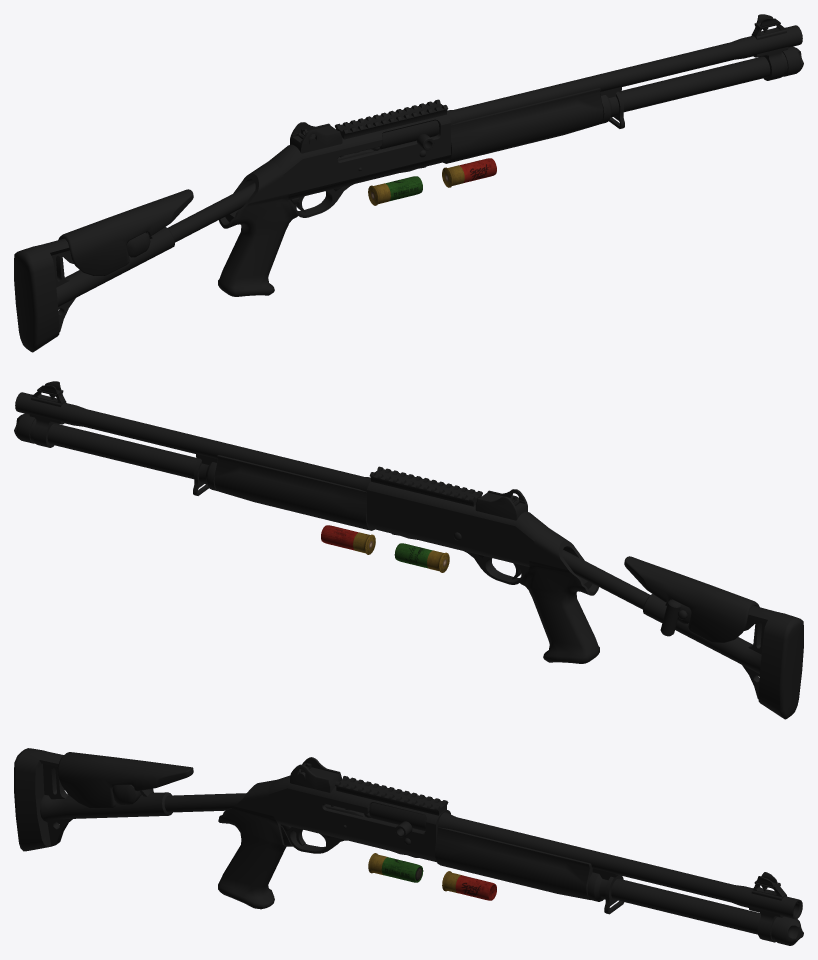
3 views of the same model, one above another, from view 1: azimuth 30°, elevation 25°; view 2: azimuth 150°, elevation 25°; view 3: azimuth 330°, elevation 25° (orthographic).
Visible parts, largest first — view 1: Circle.001, shell_slug, shell; view 2: Circle.001, shell_slug, shell; view 3: Circle.001, shell_slug, shell.
Part boxes in pixels (x1,y1,x2,y2): Circle.001: [14, 14, 803, 352]; shell_slug: [368, 176, 422, 205]; shell: [442, 158, 496, 187]; Circle.001: [14, 381, 803, 719]; shell_slug: [394, 543, 449, 572]; shell: [321, 525, 375, 554]; Circle.001: [14, 748, 803, 945]; shell_slug: [368, 853, 423, 882]; shell: [442, 871, 496, 900].
Size of the model in its own units: 49.8 by 9.53 by 2.81.
3 materials, 2 textured.
